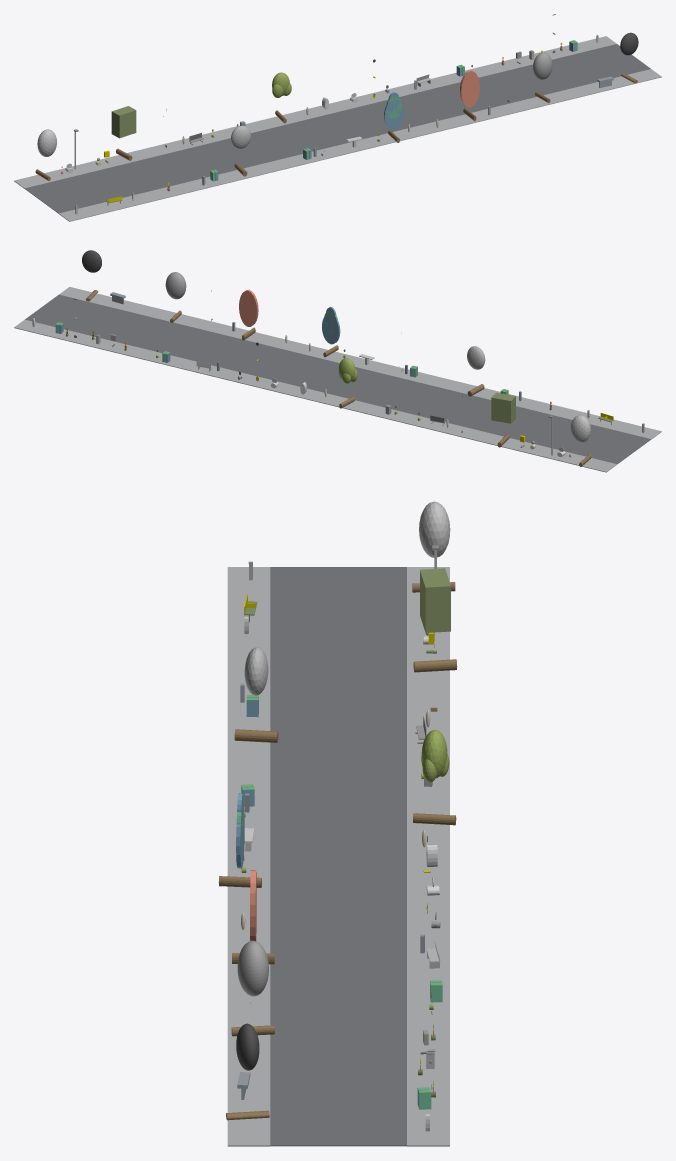
3 renders of one model, top to bottom at view 1: azimuth 30°, elevation 25°; view 2: azimuth 150°, elevation 25°; view 3: azimuth 270°, elevation 25°, orthographic. The views are drawn at different scales.
Parts seen in each view (by area): view 1: road_slab, sidewalk_left, sidewalk_right, inst_0019, inst_0023, inst_0022, inst_0018, inst_0024, inst_0021, inst_0020, inst_0025; view 2: road_slab, sidewalk_right, sidewalk_left, inst_0019, inst_0023, inst_0022, inst_0024, inst_0018, inst_0021, inst_0020, inst_0025; view 3: road_slab, sidewalk_right, sidewalk_left, inst_0019, inst_0024, inst_0021, inst_0018, inst_0020, inst_0025, inst_0022.
Part boxes in pixels (x1,y1,x2,y2): road_slab: [24, 44, 650, 213]; sidewalk_left: [59, 69, 661, 221]; sidewalk_right: [14, 36, 616, 188]; inst_0019: [111, 106, 136, 160]; inst_0023: [460, 70, 479, 121]; inst_0022: [384, 92, 404, 142]; inst_0018: [35, 129, 56, 180]; inst_0024: [533, 52, 552, 103]; inst_0021: [272, 72, 291, 123]; inst_0020: [231, 125, 250, 176]; inst_0025: [620, 32, 638, 83]; road_slab: [25, 294, 651, 464]; sidewalk_right: [14, 319, 616, 472]; sidewalk_left: [59, 287, 661, 439]; inst_0019: [491, 392, 515, 447]; inst_0023: [239, 289, 258, 340]; inst_0022: [322, 307, 340, 357]; inst_0024: [165, 272, 186, 322]; inst_0018: [570, 415, 591, 466]; inst_0021: [338, 358, 357, 408]; inst_0020: [467, 346, 485, 396]; inst_0025: [82, 250, 101, 301]; road_slab: [270, 567, 406, 1146]; sidewalk_right: [407, 567, 449, 1146]; sidewalk_left: [227, 567, 270, 1146]; inst_0019: [413, 568, 457, 672]; inst_0024: [231, 940, 274, 1036]; inst_0021: [413, 729, 456, 825]; inst_0018: [412, 501, 455, 592]; inst_0020: [234, 647, 278, 742]; inst_0025: [226, 1023, 269, 1120]; inst_0022: [218, 793, 261, 887].
Bounding box in the file's own units: 80 × 6.08 × 13.94.
